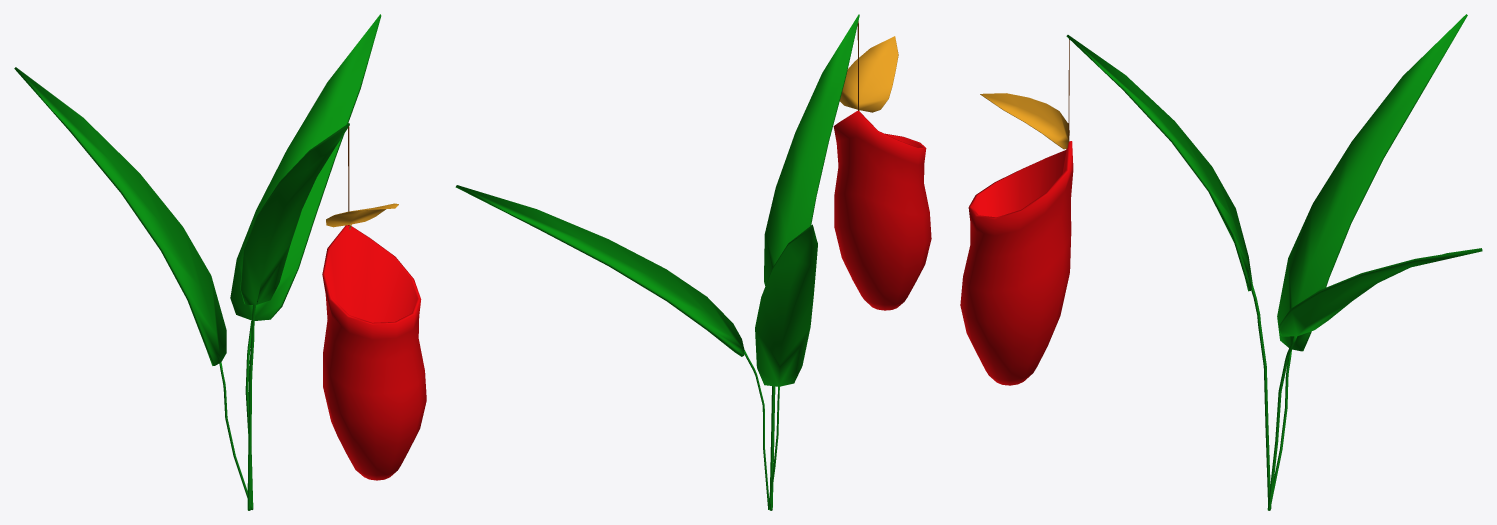
Rendered from Nepenthes2.fbx.
3 views of the same model, side by side, from view 1: azimuth 30°, elevation 25°; view 2: azimuth 150°, elevation 25°; view 3: azimuth 270°, elevation 25° (orthographic). The views are drawn at different scales.
Parts seen in each view (by area): view 1: NepenthesMesh; view 2: NepenthesMesh; view 3: NepenthesMesh.
Boxes of the visible parts, x1,y1,x2,y2 form: NepenthesMesh: [14, 14, 426, 510]; NepenthesMesh: [455, 14, 931, 510]; NepenthesMesh: [960, 14, 1482, 510].
Bounding box in the file's own units: 294 × 344 × 342.
